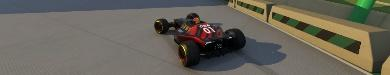Car: (153, 13, 246, 67)
obstacles-Borders: (226, 0, 389, 73)
